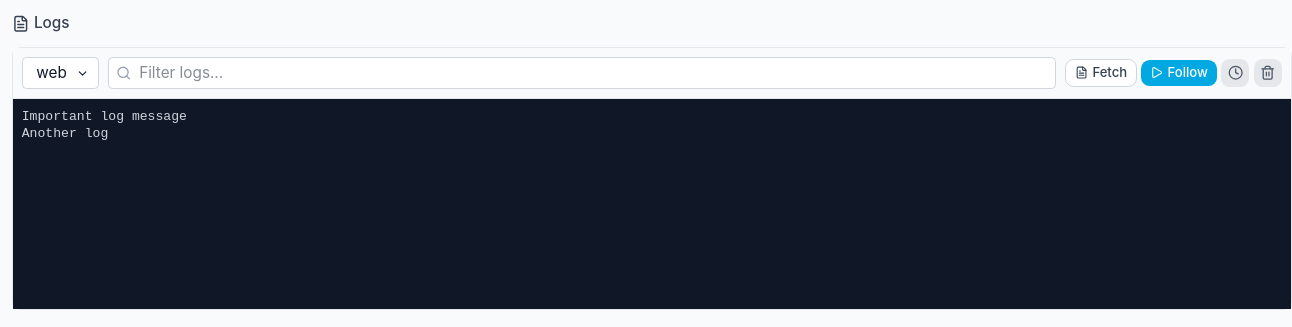
Test: LogsSection › when project is running › should filter logs by search term
This screenshot has width=1292, height=327.
// Type in search filter
In the field with placeholder "Filter logs...": (582, 73) [108,57,1056,89], type "Important"
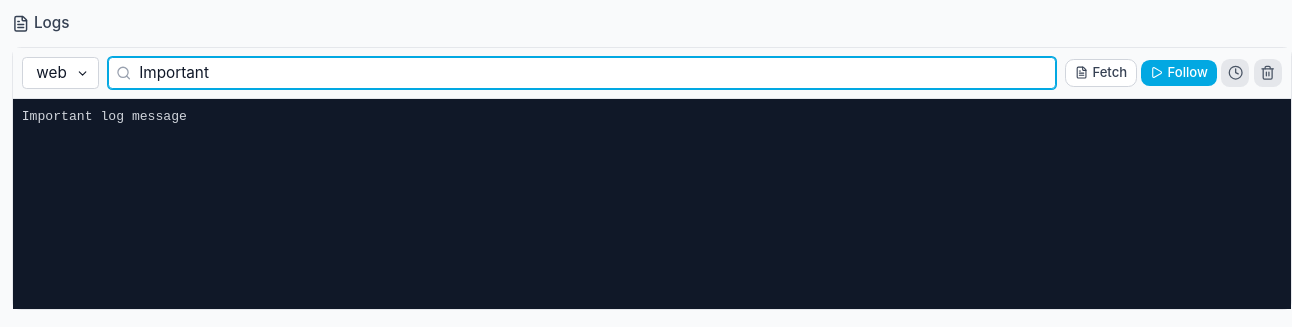
Expected: the text "Important log message" is shown, [22,109,187,124]
Result: the text "Another log" is gone
